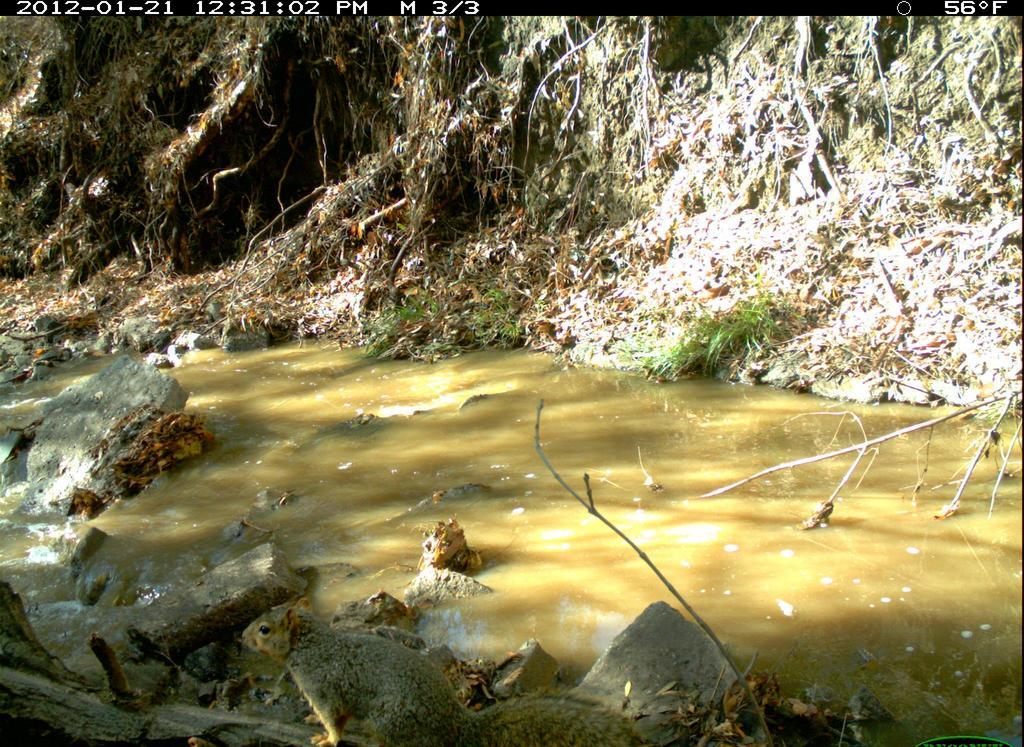squirrel: (230, 591, 678, 743)
